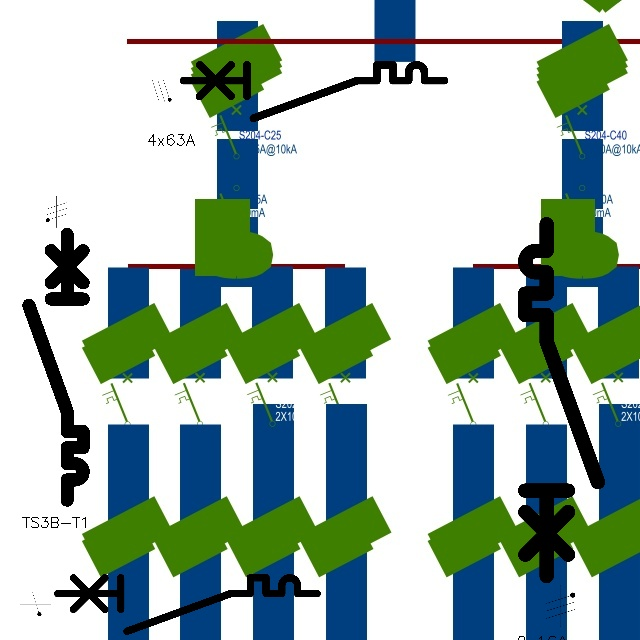interruptor_termomagnetico: (516, 215, 606, 585), (22, 227, 90, 507), (177, 58, 451, 125), (50, 571, 323, 638)
